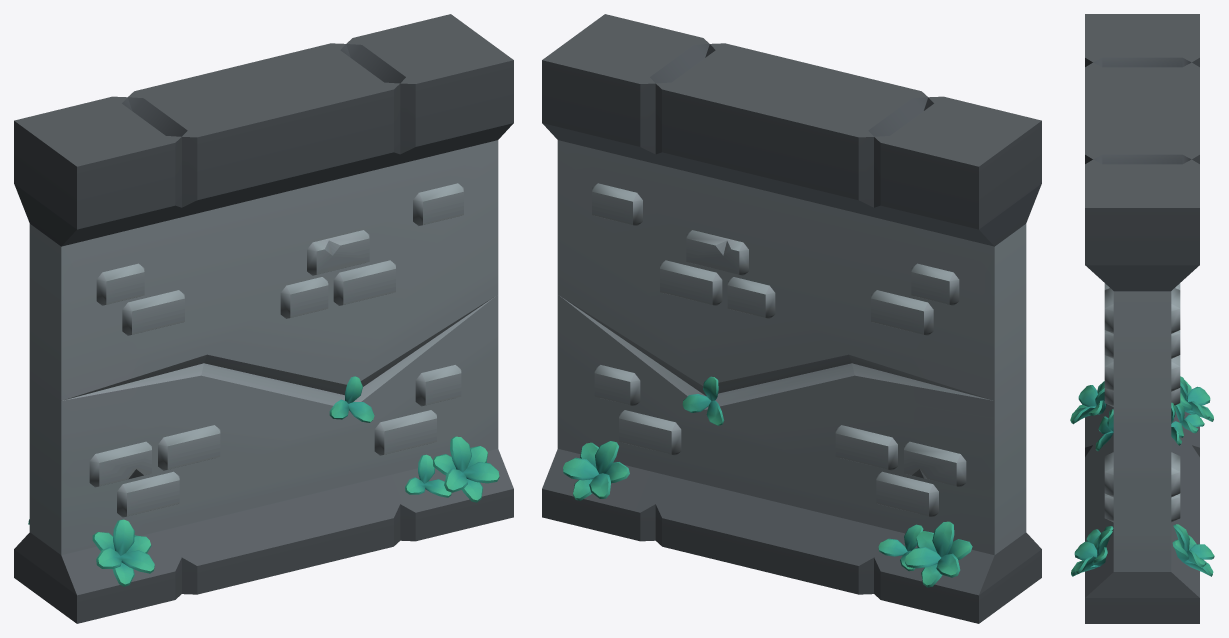
The model's file is wall_cracked.glb.
3 renders of one model, left to right at view 1: azimuth 30°, elevation 25°; view 2: azimuth 150°, elevation 25°; view 3: azimuth 270°, elevation 25°, orthographic. The views are drawn at different scales.
Parts seen in each view (by area): view 1: wall_cracked; view 2: wall_cracked; view 3: wall_cracked.
Boxes of the visible parts, bbox=[...] form: wall_cracked: bbox=[14, 14, 513, 623]; wall_cracked: bbox=[542, 14, 1041, 623]; wall_cracked: bbox=[1070, 14, 1214, 623].
Size of the model in its own units: 4 by 4 by 1.26.
1 material, 1 textured.
